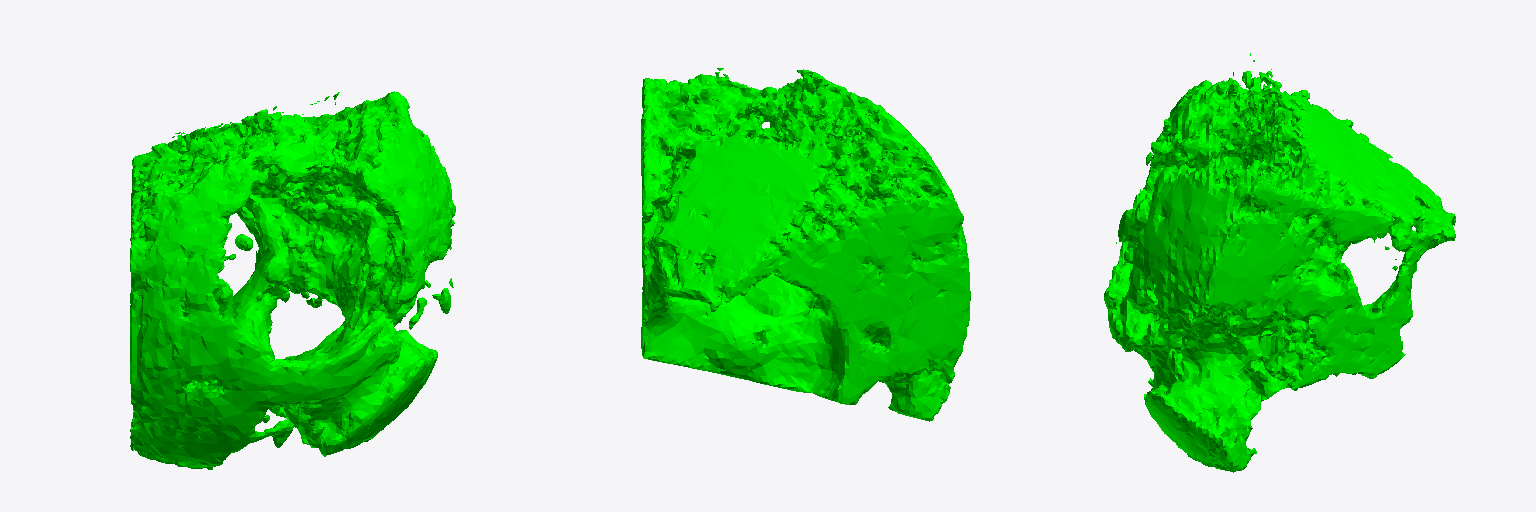
The model's file is B939XXXX-1_base_5.obj.
3 views of the same model, side by side, from view 1: azimuth 30°, elevation 25°; view 2: azimuth 150°, elevation 25°; view 3: azimuth 270°, elevation 25° (orthographic).
Visible parts, largest first — view 1: 5_base; view 2: 5_base; view 3: 5_base.
Part boxes in pixels (left/top/right/bottom): 5_base: left=130, top=91, right=455, bottom=469; 5_base: left=641, top=68, right=970, bottom=421; 5_base: left=1104, top=53, right=1455, bottom=472.
Size of the model in its own units: 218 by 216 by 205.